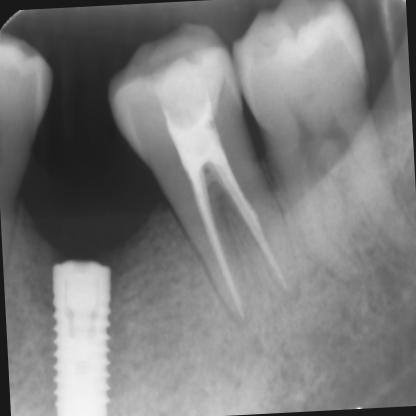ITI: (34, 251, 137, 415)
